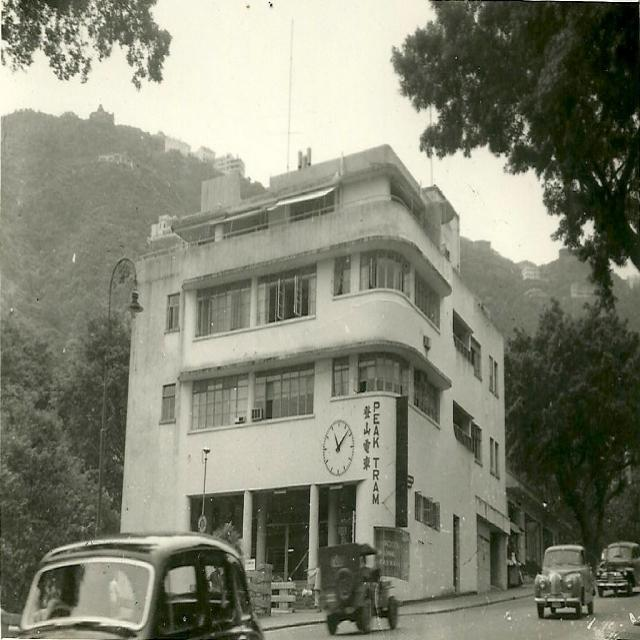car: (533, 536, 596, 619)
